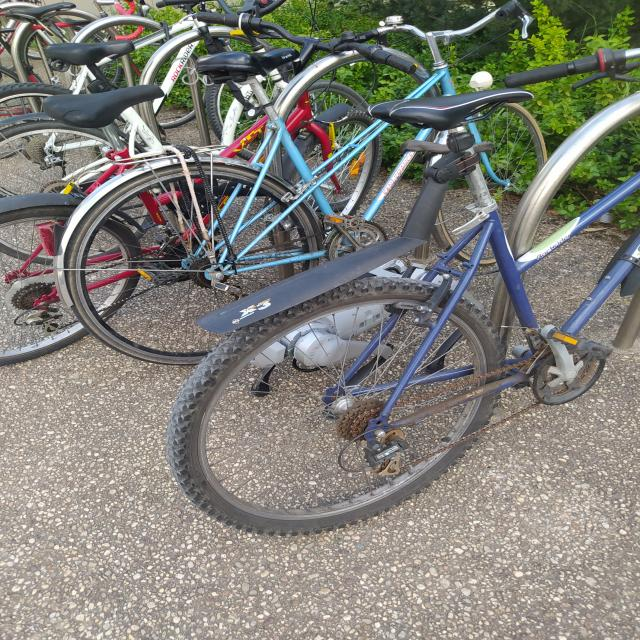unitree-go1-robot: (218, 251, 472, 405)
